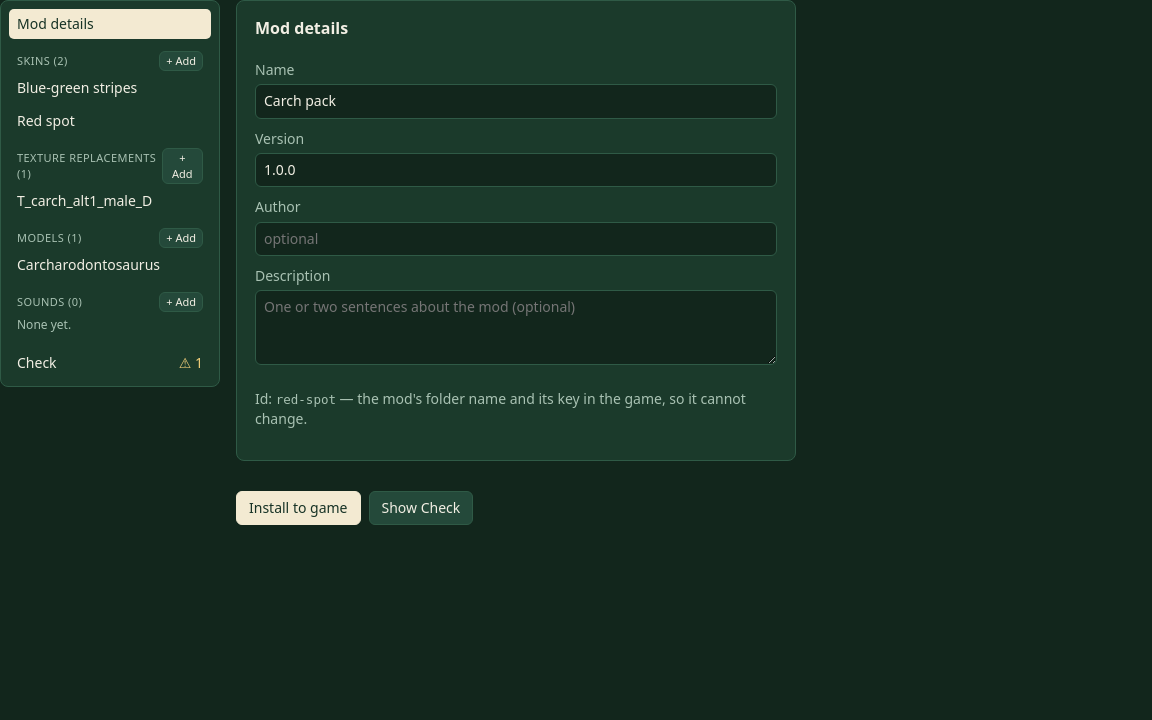
ModEditor › lists species models under Models and opens their page
Click the button "Carcharodontosaurus". click: (110, 265)
box: [9,250,211,280]
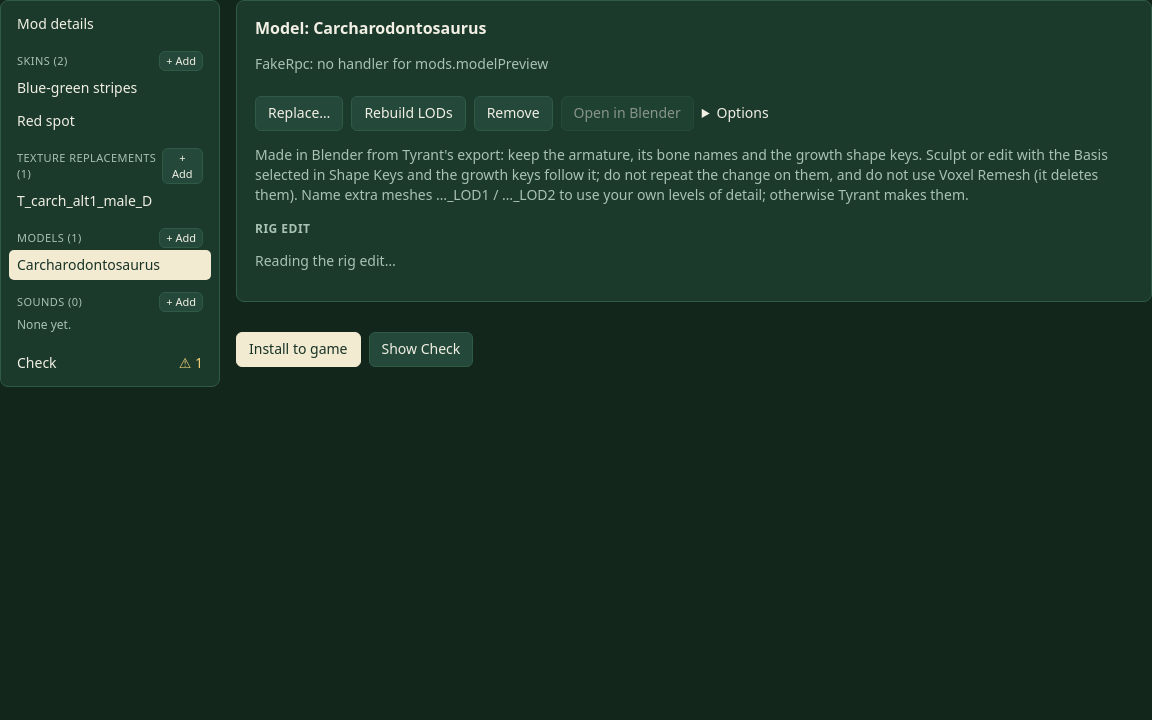
Expected: the heading "Model: Carcharodontosaurus" is shown, [255,17,486,39]
